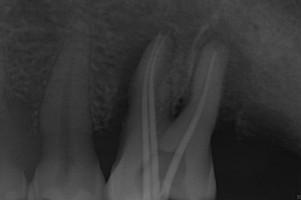Dental Caries: (107, 25, 179, 131), (195, 22, 252, 121)
Endo-Periodontal Lesion: (168, 96, 190, 122)
